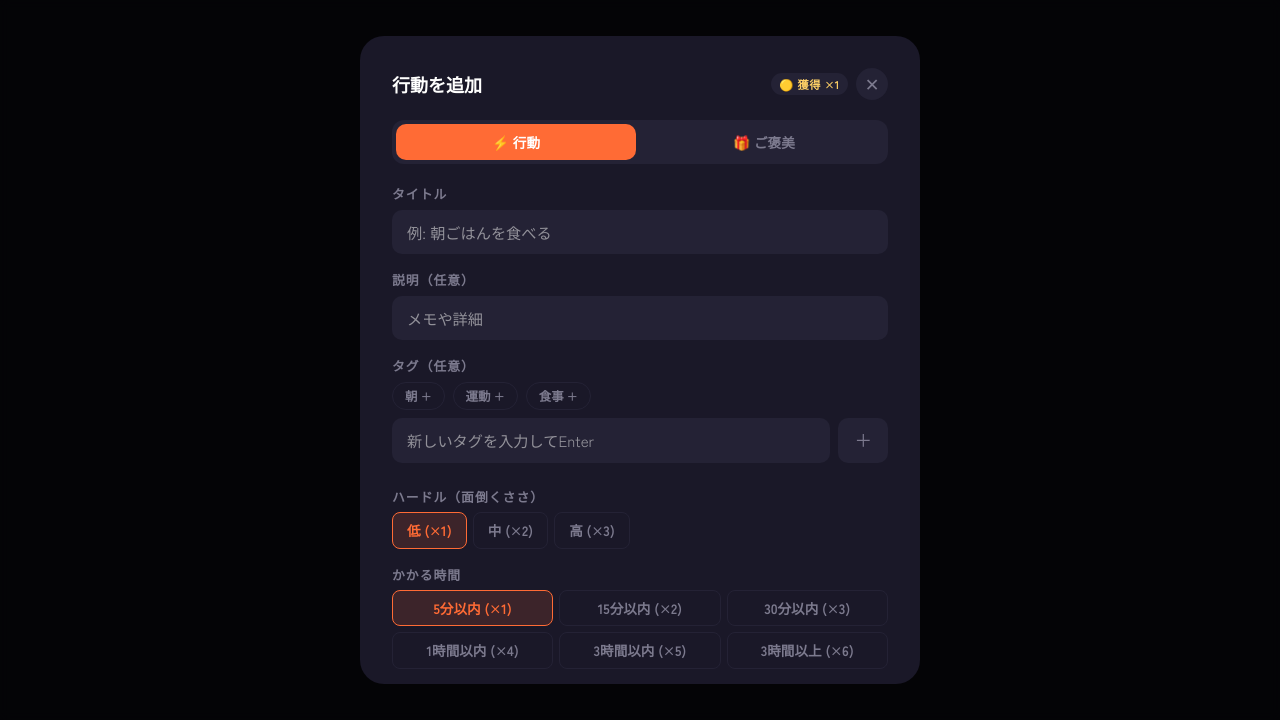
Test: ItemModal › タグ操作 › タグ入力欄にEnterで新規タグを追加できる
The image size is (1280, 720).
Type "新タグ" into the field with placeholder "新しいタグを入力してEnter".
click(611, 441); type("新タグ")  # box top-left (392, 418), bottom-right (830, 463)
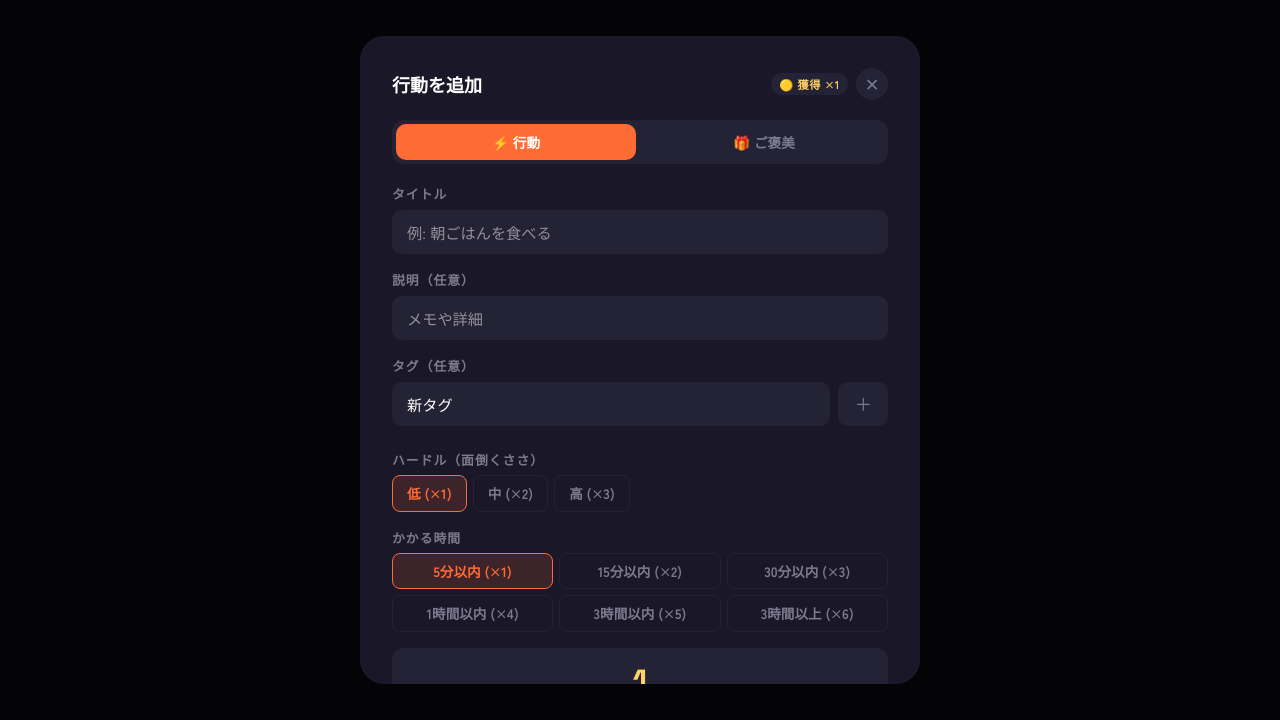
Press Enter in the field with placeholder "新しいタグを入力してEnter", box top-left (392, 382), bottom-right (830, 426)
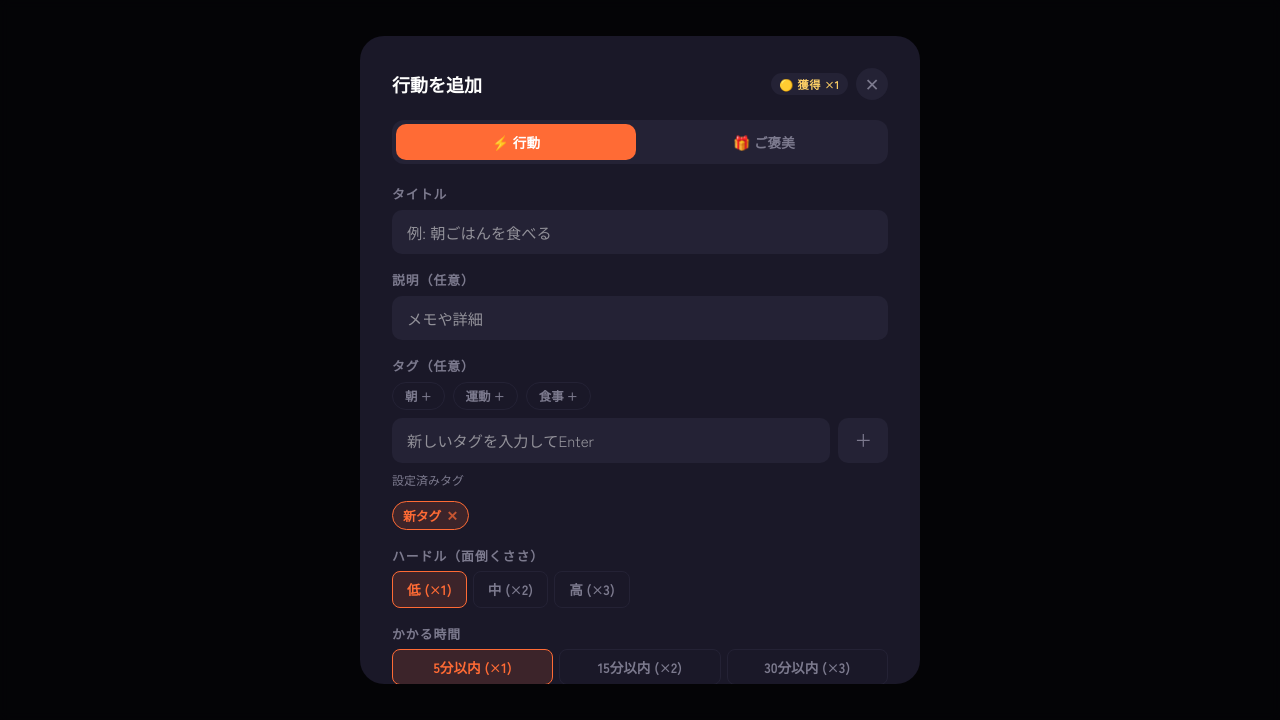
Now the text "設定済みタグ" is shown, box top-left (392, 471), bottom-right (464, 488)
